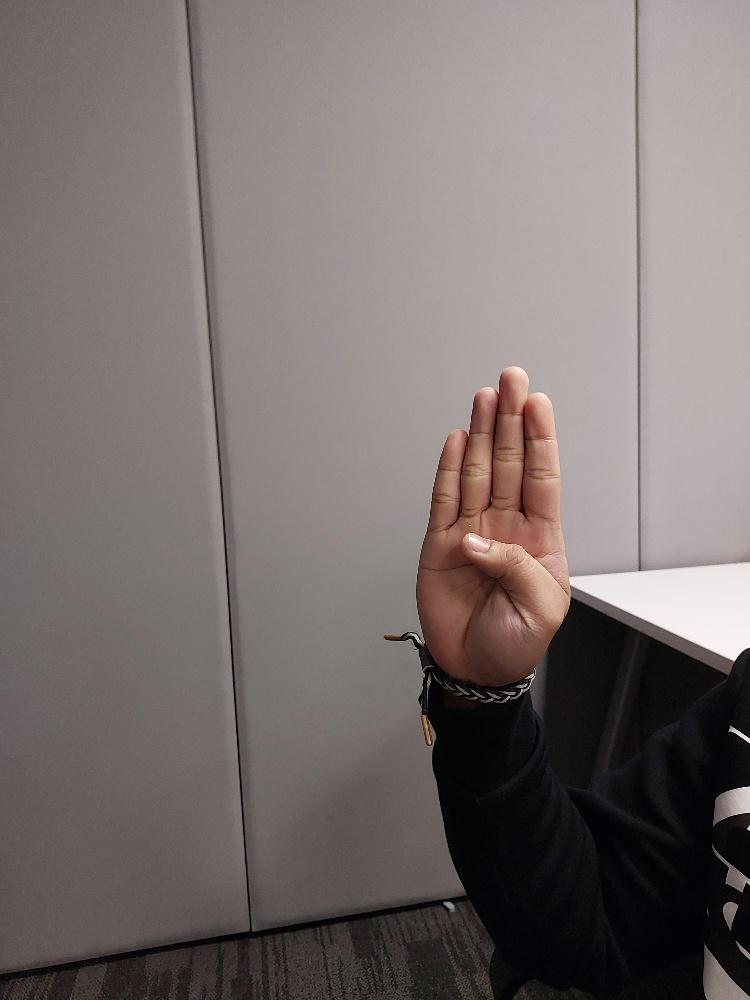b: (415, 364, 573, 687)
